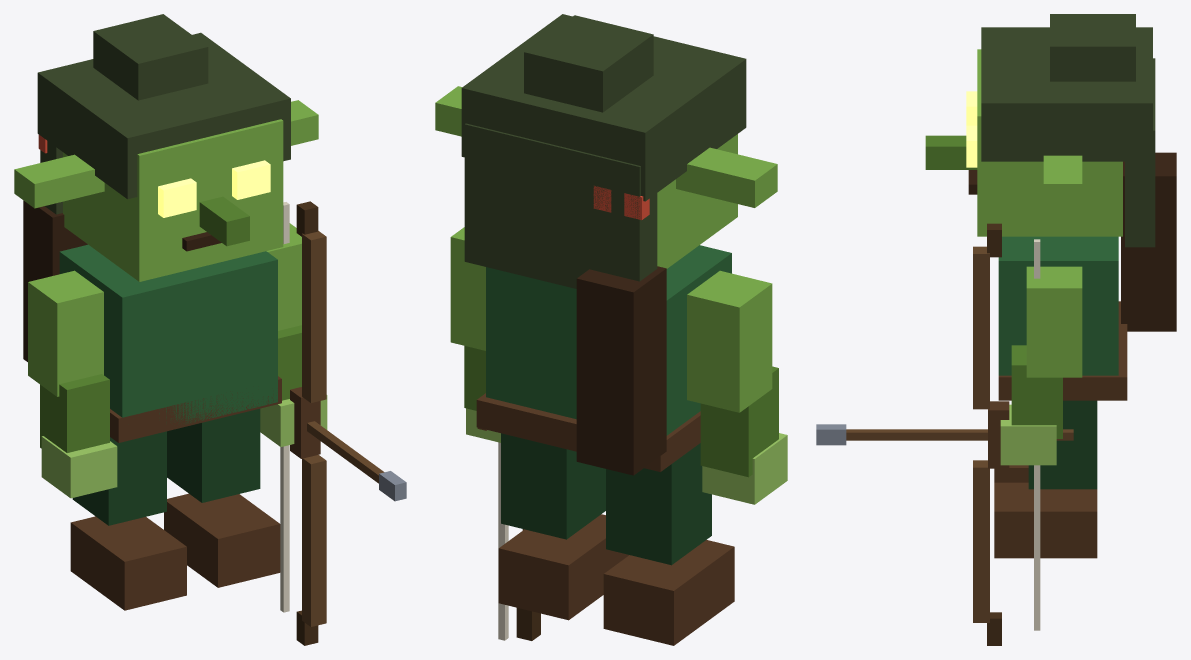
File: monster-archer.glb
The picture shows the model from 3 angles, left to right: view 1: azimuth 30°, elevation 25°; view 2: azimuth 150°, elevation 25°; view 3: azimuth 270°, elevation 25°; orthographic projection. The views are drawn at different scales.
Parts seen in each view (by area): view 1: body, head_hood, head, right_foot, left_foot, right_arm, head_hood_peak, left_leg, right_leg, right_arm_fore, weapon_bow_lower, weapon_bow_upper (+16 smaller); view 2: head_hood_back, head_hood, body_quiver, body, right_arm, right_foot, head_hood_peak, right_leg, left_foot, left_leg, right_arm_fore, body_belt (+10 smaller); view 3: head_hood, body, head, left_foot, body_quiver, left_arm, head_hood_peak, left_leg, left_arm_fore, head_hood_back, weapon_bow_upper, weapon_bow_lower (+10 smaller).
Boxes of the visible parts, x1,y1,x2,y2 form: body: (59, 244, 277, 424); head_hood: (37, 32, 290, 199); head: (63, 119, 283, 281); right_foot: (70, 516, 186, 610); left_foot: (164, 493, 280, 587); right_arm: (28, 270, 103, 396); head_hood_peak: (93, 14, 208, 100); left_leg: (167, 408, 260, 502); right_leg: (72, 431, 166, 525); right_arm_fore: (40, 374, 109, 452); weapon_bow_lower: (302, 455, 326, 626); weapon_bow_upper: (302, 231, 326, 402); head_hood_back: (464, 123, 657, 288); head_hood: (461, 14, 746, 201); body_quiver: (576, 266, 666, 475); body: (486, 245, 731, 435); right_arm: (687, 270, 772, 412); right_foot: (603, 540, 734, 645); head_hood_peak: (524, 15, 653, 112); right_leg: (606, 443, 711, 565); left_foot: (498, 514, 628, 620); left_leg: (501, 433, 605, 539); right_arm_fore: (700, 366, 778, 477); body_belt: (476, 393, 700, 471); head_hood: (981, 27, 1152, 161); body: (998, 236, 1118, 375); head: (977, 49, 1122, 236); left_foot: (994, 482, 1097, 558); body_quiver: (1121, 152, 1176, 331); left_arm: (1026, 266, 1082, 377); head_hood_peak: (1050, 14, 1135, 81); left_leg: (1028, 400, 1097, 489); left_arm_fore: (1011, 345, 1062, 438); head_hood_back: (1125, 58, 1155, 247); weapon_bow_upper: (973, 246, 989, 409); weapon_bow_lower: (973, 460, 989, 622).
Bounding box in the file's own units: 1.46 × 2.9 × 1.68.
